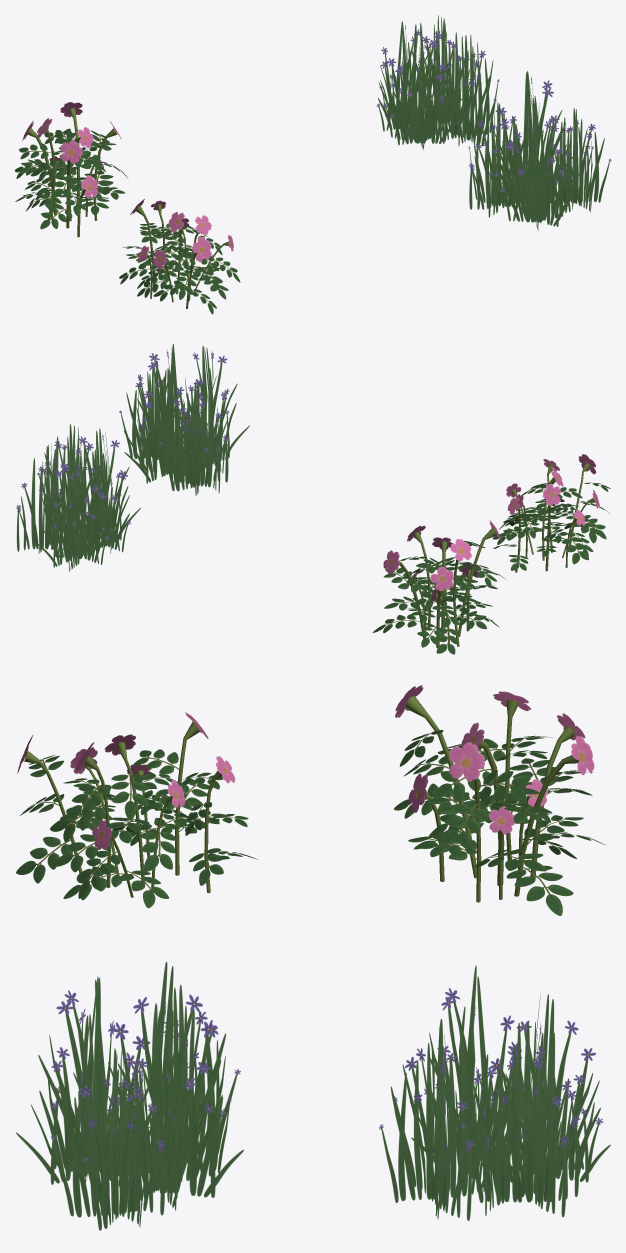
Rendered from foliage_plants.glb.
The picture shows the model from 3 angles, top to bottom: view 1: azimuth 30°, elevation 25°; view 2: azimuth 150°, elevation 25°; view 3: azimuth 270°, elevation 25°; orthographic projection. The views are drawn at different scales.
Parts seen in each view (by area): view 1: Blue_Eyed_Grass_02, Blue_Eyed_Grass_01, Nootka_Rose_02, Nootka_Rose_01; view 2: Blue_Eyed_Grass_02, Blue_Eyed_Grass_01, Nootka_Rose_02, Nootka_Rose_01; view 3: Blue_Eyed_Grass_02, Blue_Eyed_Grass_01, Nootka_Rose_02, Nootka_Rose_01.
Boxes of the visible parts, box(x1,y1,x2,y2) form: Blue_Eyed_Grass_02: box(468, 71, 611, 230); Blue_Eyed_Grass_01: box(376, 15, 499, 150); Nootka_Rose_02: box(14, 102, 128, 237); Nootka_Rose_01: box(119, 199, 240, 314); Blue_Eyed_Grass_02: box(119, 344, 249, 495); Blue_Eyed_Grass_01: box(16, 424, 140, 571); Nootka_Rose_02: box(372, 520, 506, 654); Nootka_Rose_01: box(492, 454, 610, 572); Blue_Eyed_Grass_02: box(16, 961, 243, 1230); Blue_Eyed_Grass_01: box(379, 965, 610, 1220); Nootka_Rose_02: box(394, 685, 606, 915); Nootka_Rose_01: box(16, 712, 257, 908).
Size of the model in its own units: 2.62 by 0.7126 by 1.67.
1 material, 1 textured.
